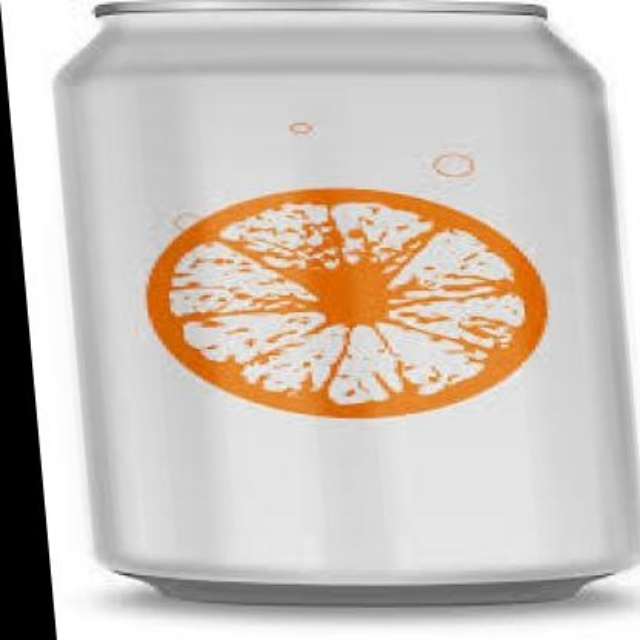trash: (55, 0, 634, 600)
